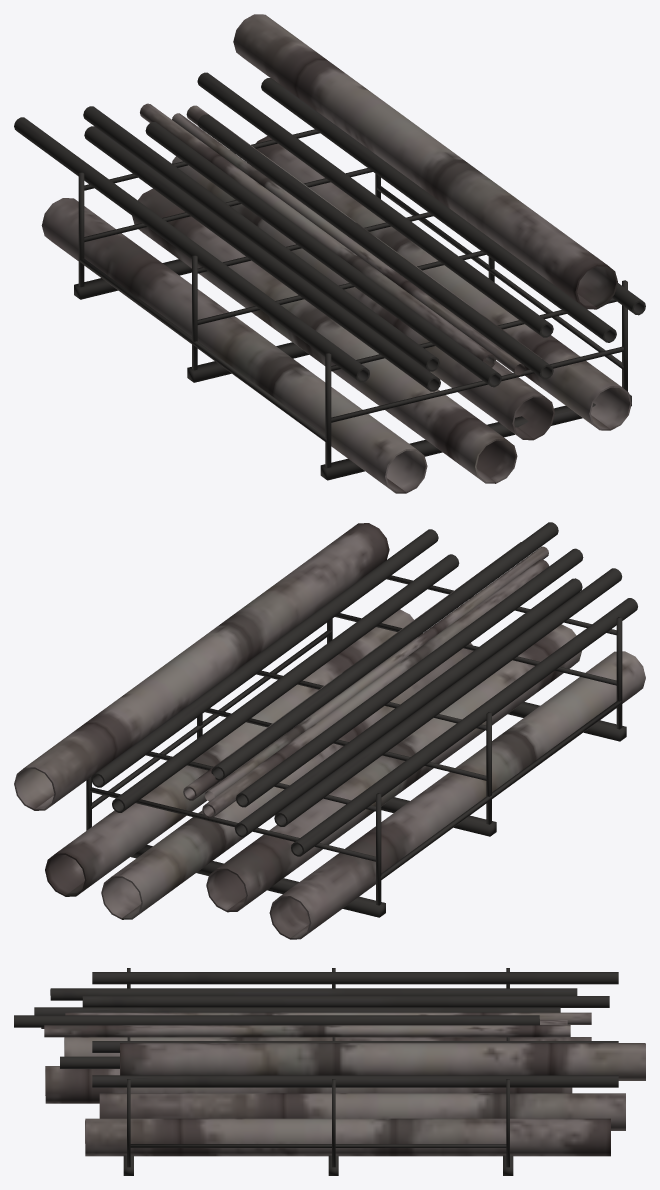
The model's file is Concrete_Pipe_1.glb.
The picture shows the model from 3 angles, top to bottom: view 1: azimuth 30°, elevation 25°; view 2: azimuth 150°, elevation 25°; view 3: azimuth 270°, elevation 25°; orthographic projection. The views are drawn at different scales.
Parts seen in each view (by area): view 1: Concrete_Pipe_1; view 2: Concrete_Pipe_1; view 3: Concrete_Pipe_1.
Boxes of the visible parts, x1,y1,x2,y2 form: Concrete_Pipe_1: (14,14,645,493); Concrete_Pipe_1: (14,522,645,939); Concrete_Pipe_1: (14,968,645,1175).
Bounding box in the file's own units: 4.81 × 2.3 × 11.25.
Materials: 1 (1 with a texture image).
